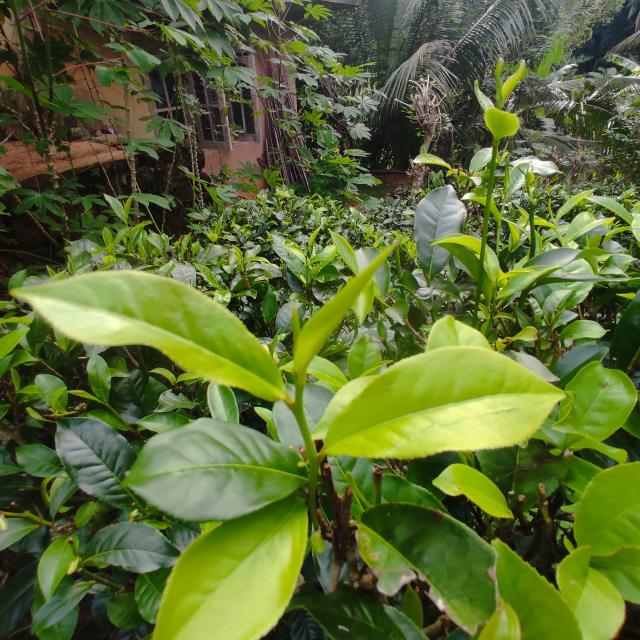unopened_leaf: (285, 229, 409, 401), (494, 58, 534, 112), (485, 48, 511, 118)
